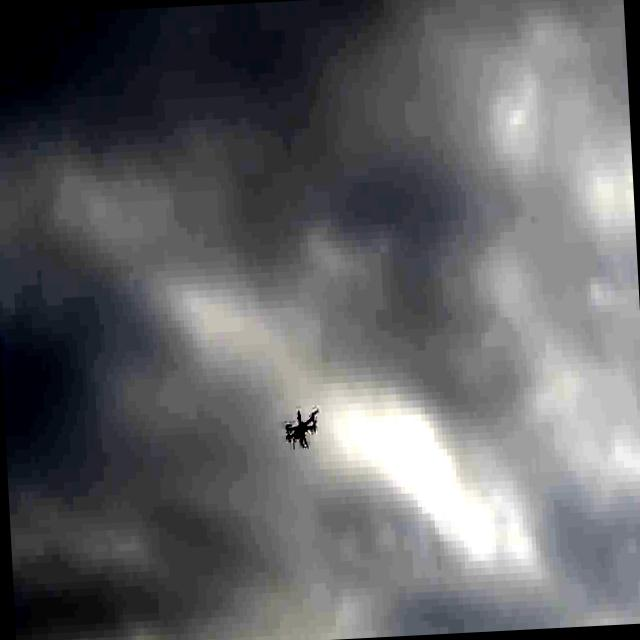drone: (282, 404, 320, 450)
